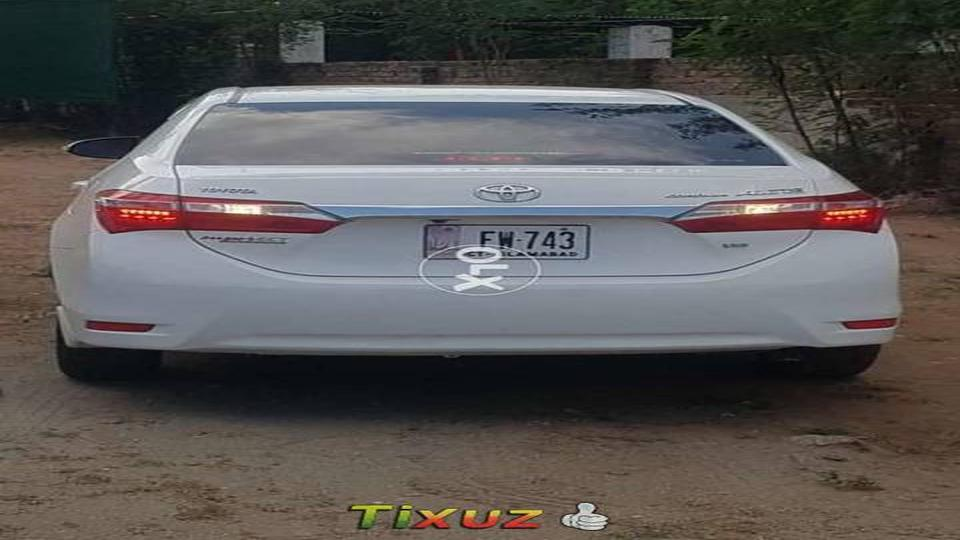NumberPlate: (414, 209, 605, 267)
